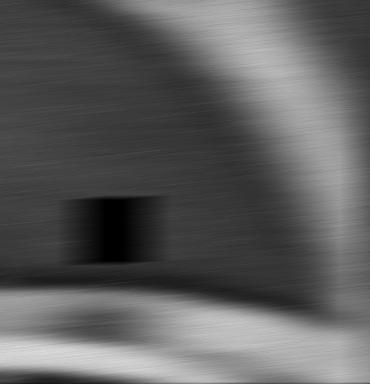Airbag: (0, 0, 370, 384), (358, 0, 370, 383)
